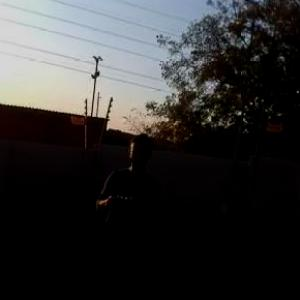follow: (85, 127, 175, 299)
